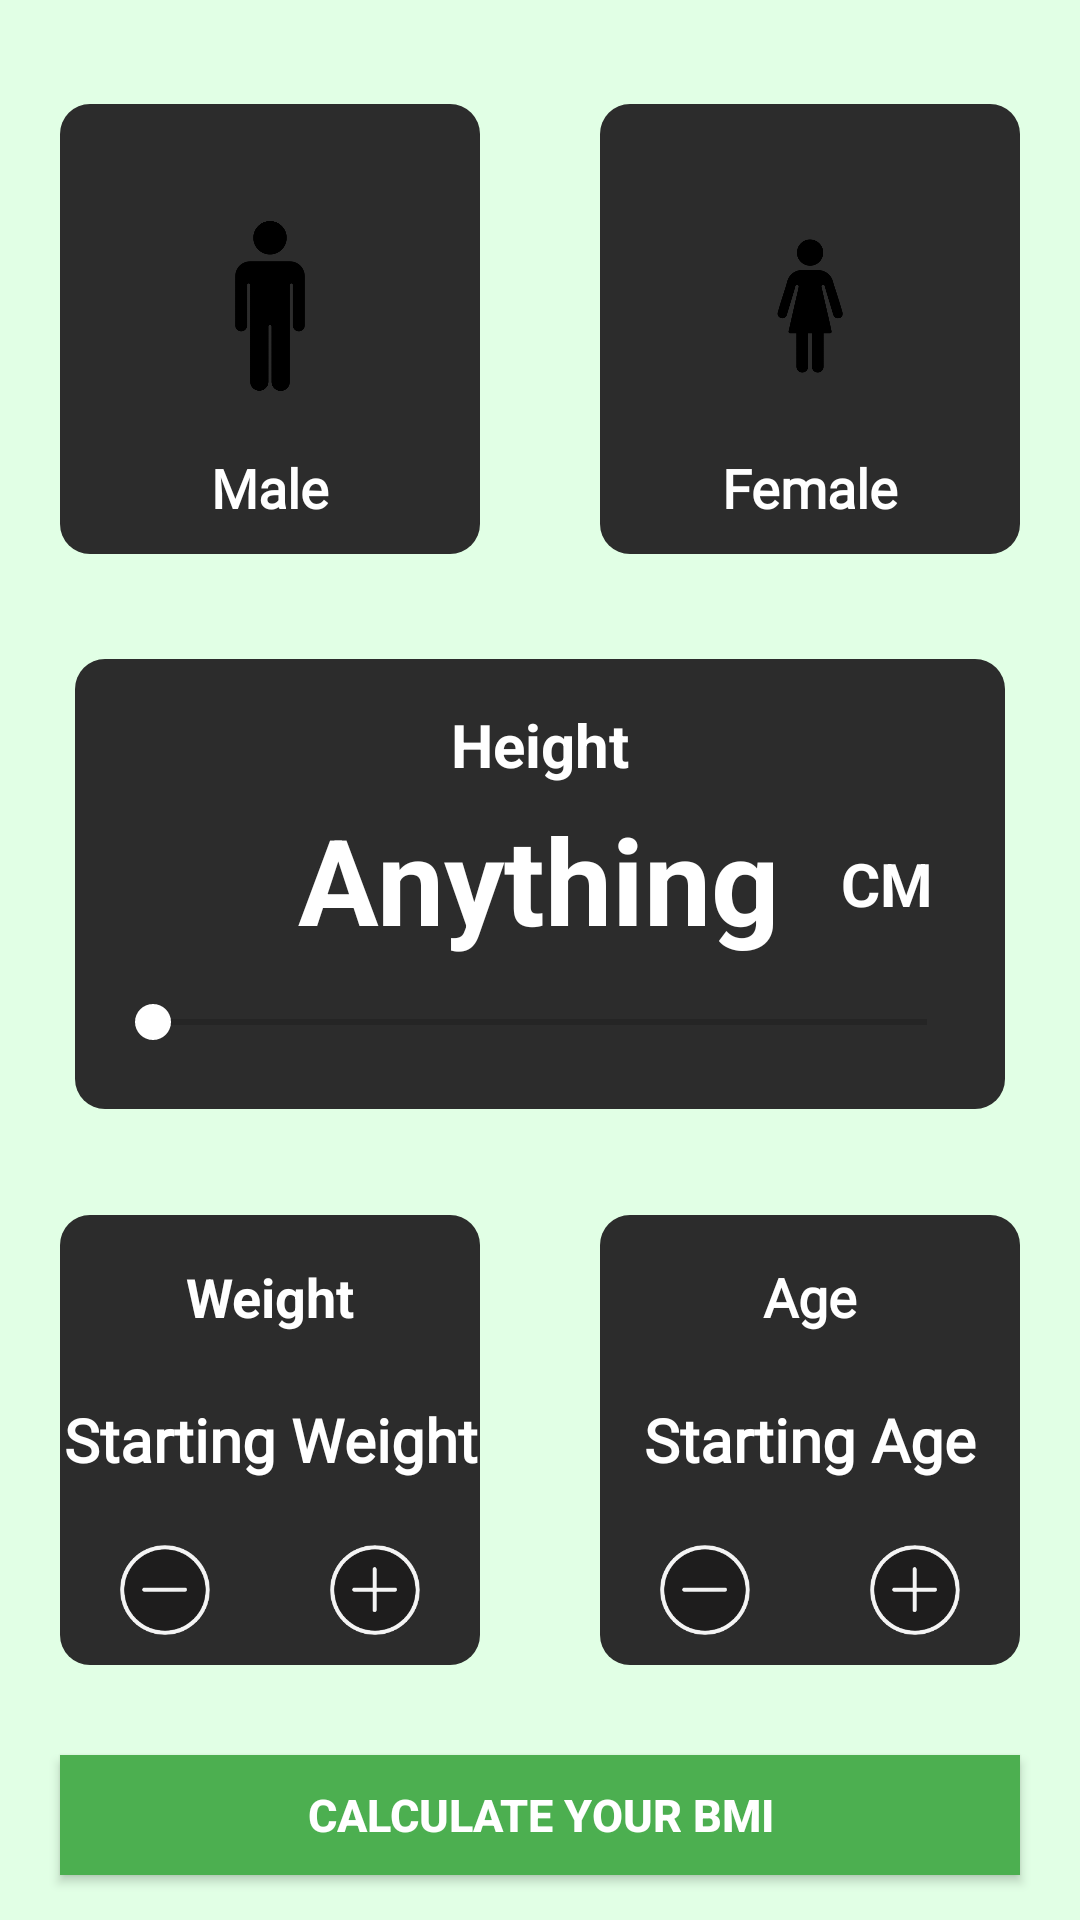

Named icons in this screenshot (1080 × 1920) and their centers, (x=x, y=y):
add: (x=375, y=1590), (x=915, y=1590)
minus: (x=165, y=1590), (x=705, y=1590)
